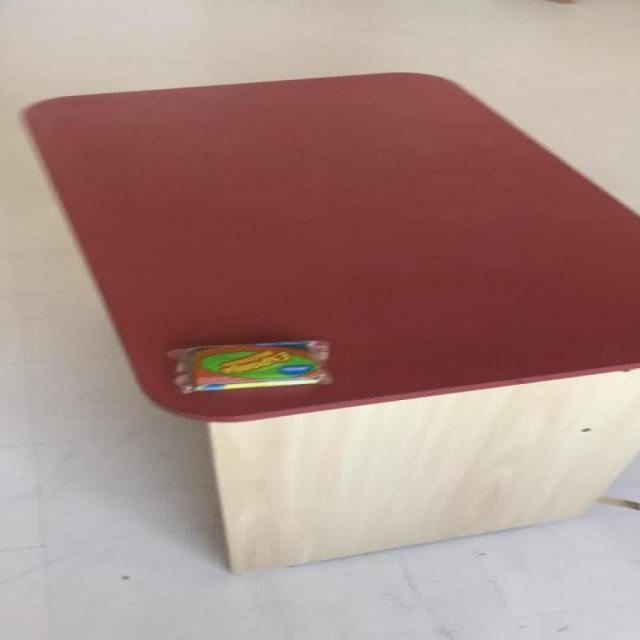Sponge: (164, 340, 331, 394)
